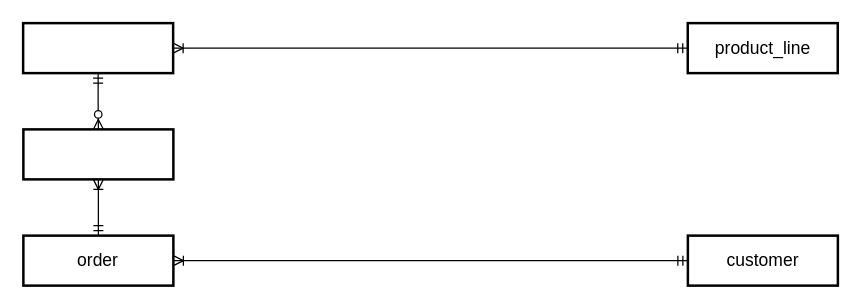
This 860x308 diagram has some shape labels left out. Each missing label, with the centre of its shape:
product: [97,47]
product_order: [98,154]
